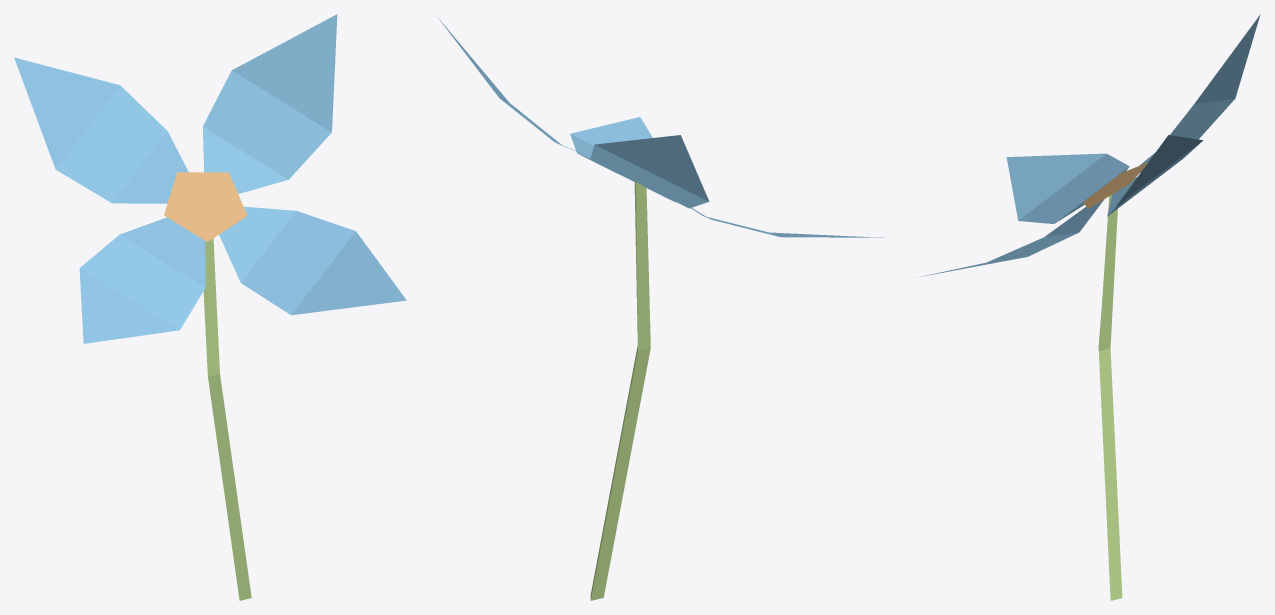
The model's file is Flower_a_OneS_04.fbx.
3 views of the same model, side by side, from view 1: azimuth 30°, elevation 25°; view 2: azimuth 150°, elevation 25°; view 3: azimuth 270°, elevation 25° (orthographic). The views are drawn at different scales.
Parts seen in each view (by area): view 1: Flower_a_OneS_04; view 2: Flower_a_OneS_04; view 3: Flower_a_OneS_04.
Part boxes in pixels (x1,y1,x2,y2): Flower_a_OneS_04: (14, 14, 406, 600); Flower_a_OneS_04: (437, 17, 884, 600); Flower_a_OneS_04: (918, 14, 1260, 600).
Bounding box in the file's own units: 0.4822 × 0.7308 × 0.4403.
